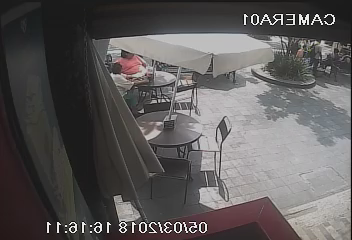libre: (123, 100, 239, 195)
ocupado: (101, 45, 198, 109)
